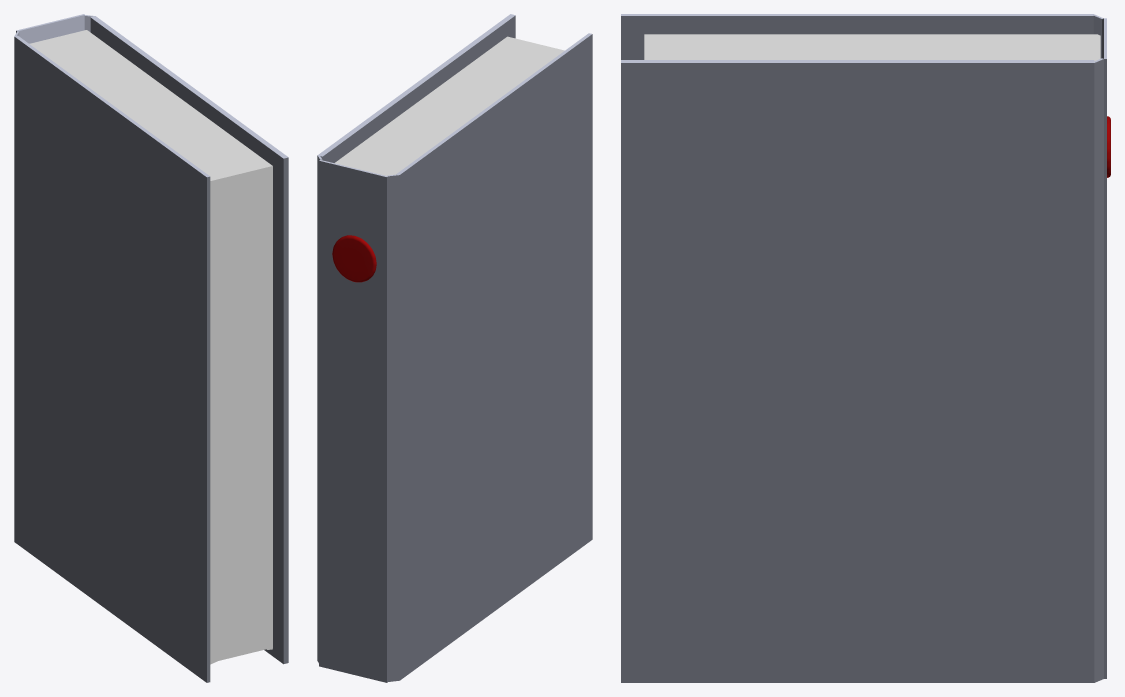
Rendered from book circle.fbx.
The picture shows the model from 3 angles, left to right: view 1: azimuth 30°, elevation 25°; view 2: azimuth 150°, elevation 25°; view 3: azimuth 270°, elevation 25°; orthographic projection. The views are drawn at different scales.
Visible parts, largest first — view 1: pCube55; view 2: pCube55, pCylinder1; view 3: pCube55.
Part boxes in pixels (x1=…): pCube55: x1=14, y1=14, x2=288, y2=682; pCube55: x1=317, y1=14, x2=592, y2=682; pCylinder1: x1=332, y1=235, x2=376, y2=282; pCube55: x1=621, y1=14, x2=1106, y2=682.
Bounding box in the file's own units: 13.9 × 81.98 × 58.71.
